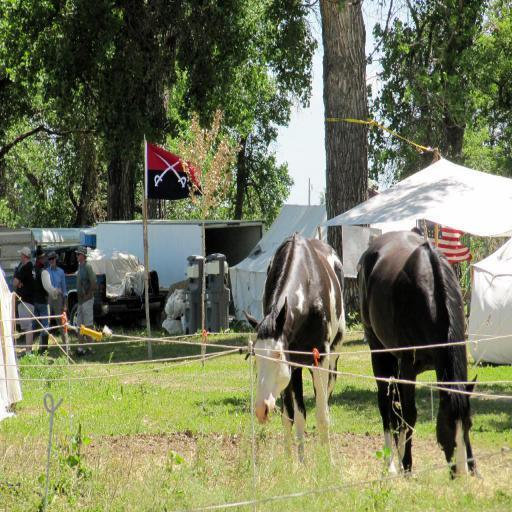horse: (354, 229, 478, 481)
